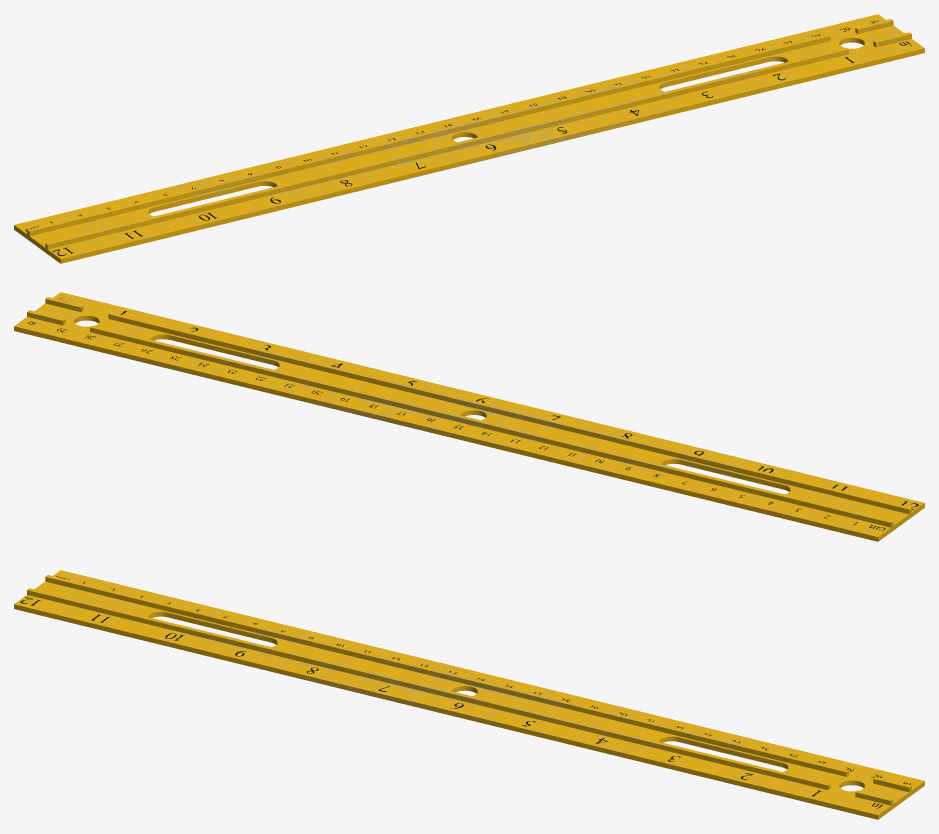
The model's file is ruler.dae.
The picture shows the model from 3 angles, top to bottom: view 1: azimuth 30°, elevation 25°; view 2: azimuth 150°, elevation 25°; view 3: azimuth 330°, elevation 25°; orthographic projection.
Visible parts, largest first — view 1: Ruler (×3); view 2: Ruler (×3); view 3: Ruler (×3).
Boxes of the visible parts, box(x1,y1,x2,y2) form: Ruler (×3): box(14, 14, 924, 263); Ruler (×3): box(14, 292, 924, 541); Ruler (×3): box(14, 570, 924, 819).
Size of the model in its own units: 12 by 1.12 by 0.125.
